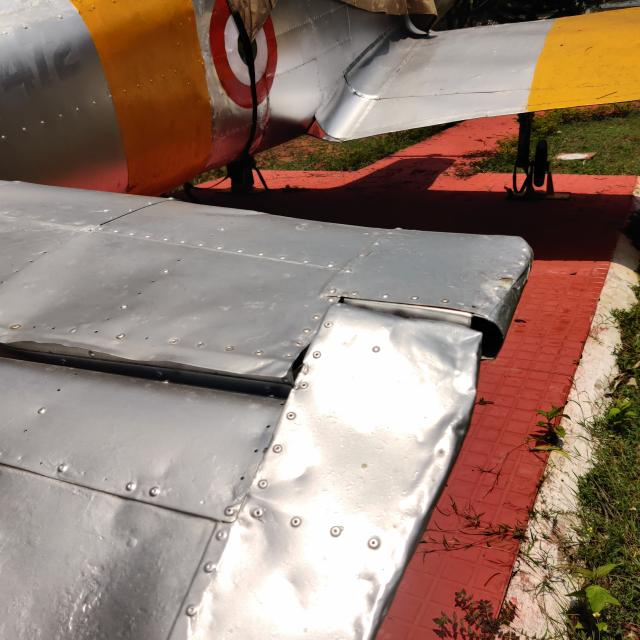dent: (195, 442, 330, 612), (365, 391, 486, 512), (374, 312, 488, 408), (329, 554, 407, 640)
